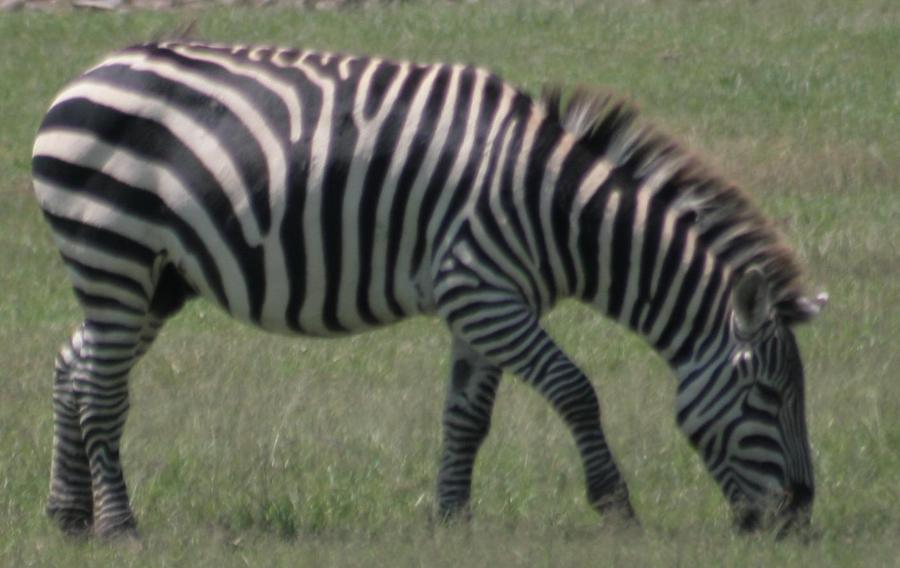zebra_plains: (4, 30, 583, 371)
